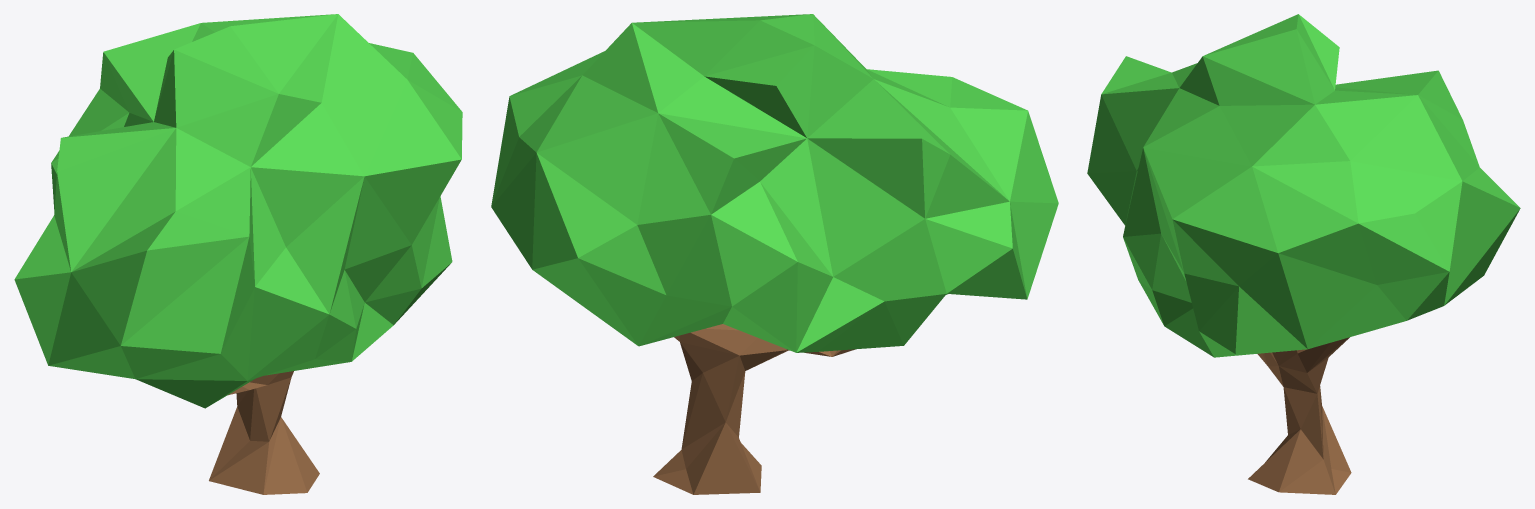
File: Tree.fbx
3 views of the same model, side by side, from view 1: azimuth 30°, elevation 25°; view 2: azimuth 150°, elevation 25°; view 3: azimuth 270°, elevation 25° (orthographic). The views are drawn at different scales.
Visible parts, largest first — view 1: Plane, Plane.001; view 2: Plane, Plane.001; view 3: Plane, Plane.001.
Part boxes in pixels (<box>): Plane: <box>14,14,462,408</box>; Plane.001: <box>209,371,319,494</box>; Plane: <box>491,14,1058,352</box>; Plane.001: <box>653,324,855,494</box>; Plane: <box>1087,14,1520,357</box>; Plane.001: <box>1248,337,1351,494</box>.
Bounding box in the file's own units: 1628 × 1568 × 1443.
